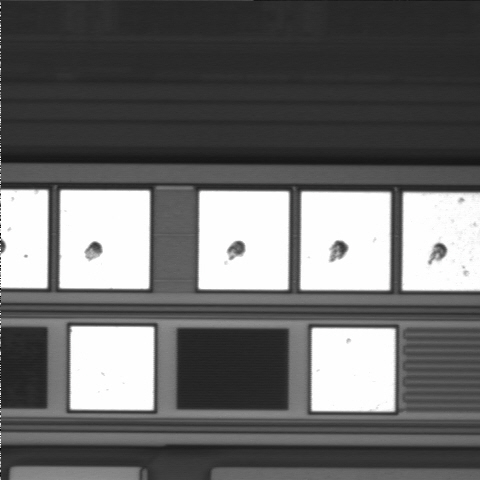pad: (60, 190, 150, 289), (199, 191, 289, 290), (300, 192, 390, 290), (70, 327, 154, 410), (312, 328, 395, 411)
